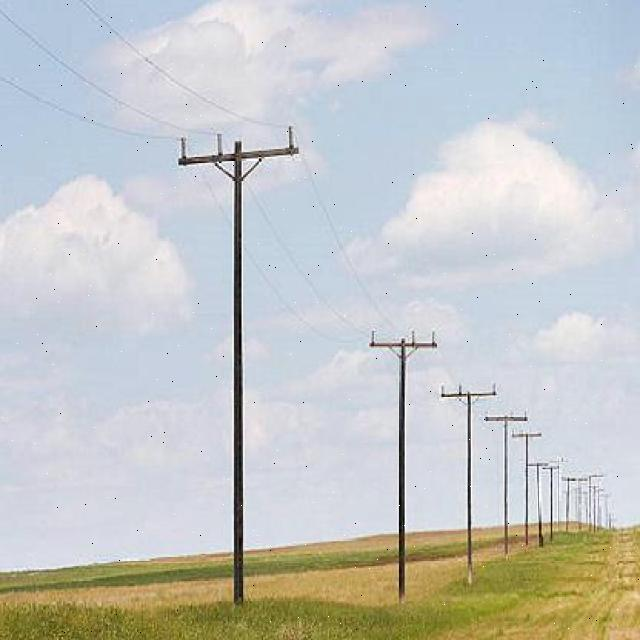light_pole: (165, 110, 308, 599), (363, 325, 445, 579), (445, 376, 499, 547), (511, 425, 545, 536)
